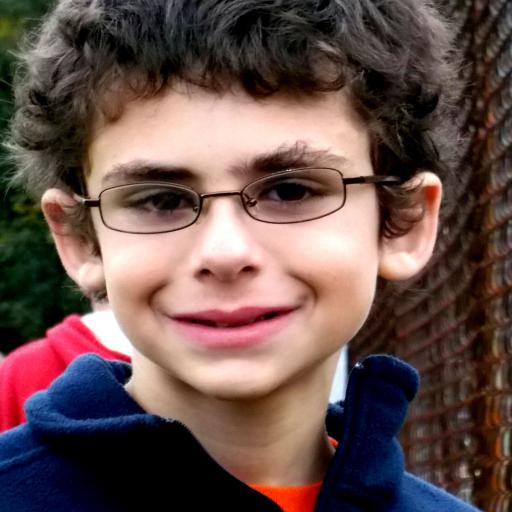Autism: (12, 4, 512, 498)
